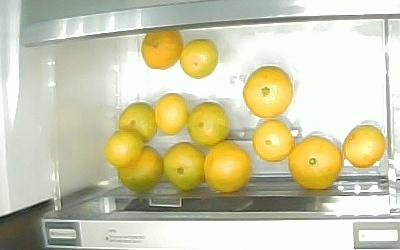tangerine: (289, 137, 342, 190), (243, 65, 292, 118), (205, 141, 252, 194), (117, 146, 164, 193), (164, 141, 207, 190), (344, 126, 388, 169), (187, 102, 229, 145), (253, 120, 296, 161), (141, 28, 183, 69), (120, 102, 157, 141), (182, 39, 217, 80), (155, 94, 187, 133), (107, 132, 144, 165)
